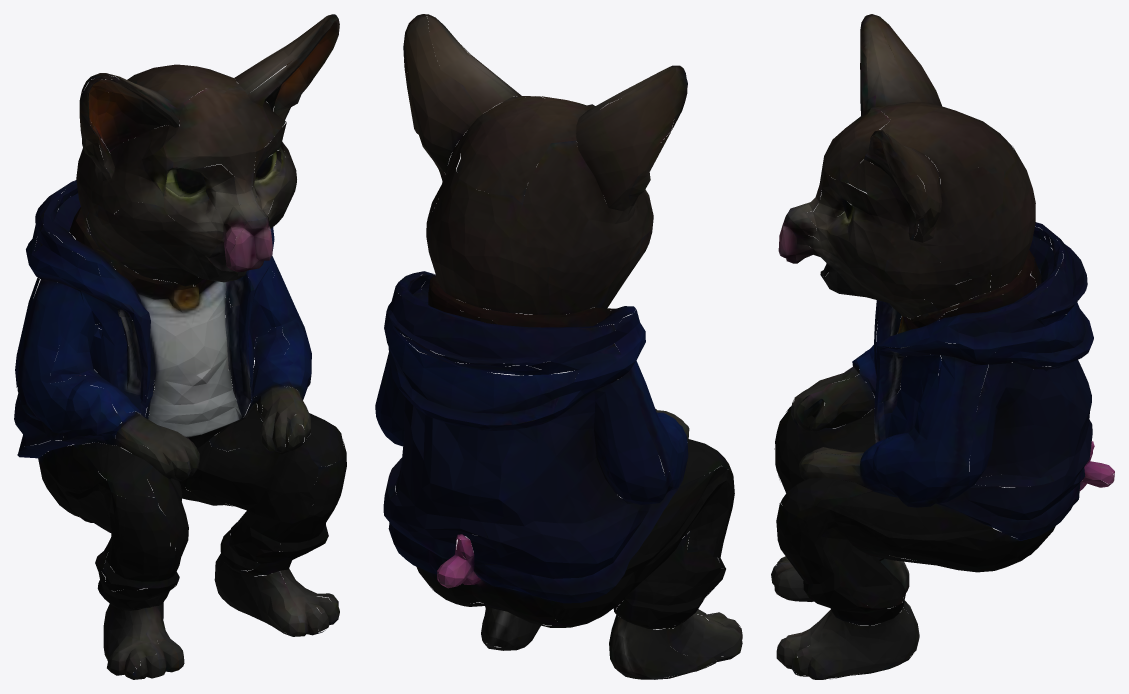
The model's file is char_pureum.glb.
3 renders of one model, left to right at view 1: azimuth 30°, elevation 25°; view 2: azimuth 150°, elevation 25°; view 3: azimuth 270°, elevation 25°, orthographic. The views are drawn at different scales.
Parts seen in each view (by area): view 1: char_pureum_model; view 2: char_pureum_model; view 3: char_pureum_model.
Boxes of the visible parts, left/top/right/bottom form: char_pureum_model: left=14, top=14, right=346, bottom=679; char_pureum_model: left=375, top=14, right=742, bottom=679; char_pureum_model: left=771, top=14, right=1114, bottom=679.
Bounding box in the file's own units: 0.6549 × 1.27 × 0.693.
Materials: 1 (1 with a texture image).
